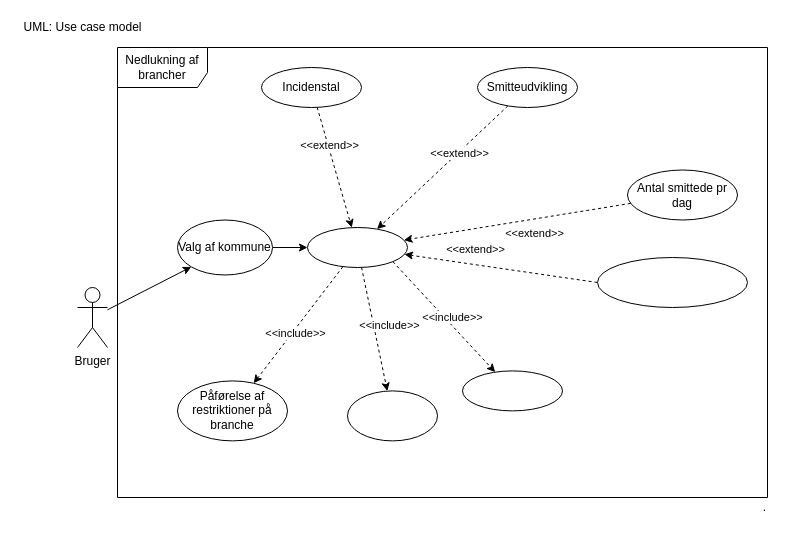
The diagram is 791 pixels wide and 534 high, and some of its shapes have lost their labels. Here are the shapes that lost their labels. From the top down, the centre of each, then its label:
pixel 357 247: Login
pixel 672 282: Indikationer om det er nødvendigt at lukke
pixel 512 390: Nedlukning af branche
pixel 392 415: Genåbning af branche
